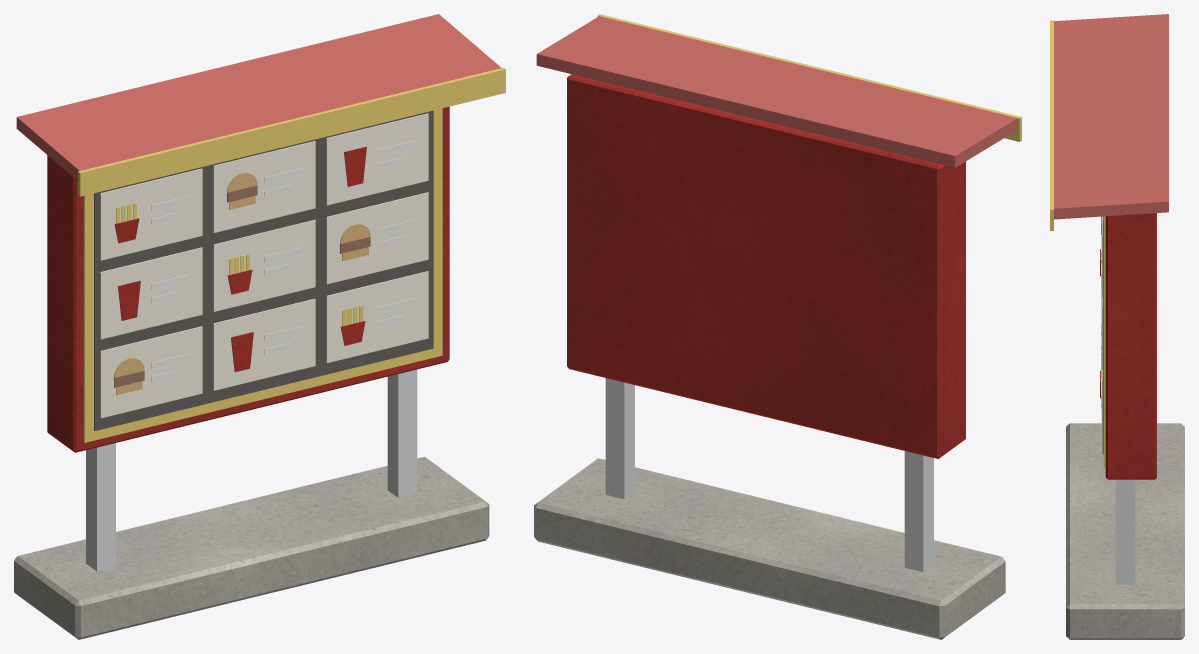
Rendered from dt_menu.glb.
3 renders of one model, left to right at view 1: azimuth 30°, elevation 25°; view 2: azimuth 150°, elevation 25°; view 3: azimuth 270°, elevation 25°, orthographic. The views are drawn at different scales.
Visible parts, largest first — view 1: dt_menu_menu_lit, dt_menu_concrete, dt_menu_redm, dt_menu_menu, dt_menu_accent, dt_menu_red, dt_menu_steel, dt_menu_paint_w, dt_menu_bun, dt_menu_patty, dt_menu_cheese; view 2: dt_menu_red, dt_menu_concrete, dt_menu_redm, dt_menu_steel, dt_menu_accent; view 3: dt_menu_redm, dt_menu_concrete, dt_menu_red, dt_menu_steel, dt_menu_accent, dt_menu_menu, dt_menu_menu_lit.
Part boxes in pixels (x1,y1,x2,y2): dt_menu_menu_lit: (100, 113, 428, 418); dt_menu_concrete: (14, 456, 489, 639); dt_menu_redm: (16, 14, 501, 180); dt_menu_menu: (94, 110, 433, 430); dt_menu_accent: (78, 67, 505, 442); dt_menu_red: (47, 106, 449, 452); dt_menu_steel: (86, 369, 417, 571); dt_menu_paint_w: (151, 140, 415, 382); dt_menu_bun: (114, 172, 370, 395); dt_menu_patty: (114, 185, 370, 387); dt_menu_cheese: (116, 202, 363, 326); dt_menu_red: (567, 74, 965, 458); dt_menu_concrete: (534, 458, 1005, 639); dt_menu_redm: (536, 16, 1017, 167); dt_menu_steel: (605, 378, 933, 571); dt_menu_accent: (597, 14, 1021, 141); dt_menu_redm: (1054, 14, 1168, 219); dt_menu_concrete: (1066, 423, 1184, 639); dt_menu_red: (1100, 213, 1156, 479); dt_menu_steel: (1115, 479, 1135, 584); dt_menu_accent: (1050, 20, 1105, 467); dt_menu_menu: (1102, 216, 1103, 454); dt_menu_menu_lit: (1101, 216, 1102, 440).
Size of the model in its own units: 2.26 by 2.46 by 0.68.
Materials: 12 (2 with a texture image).
